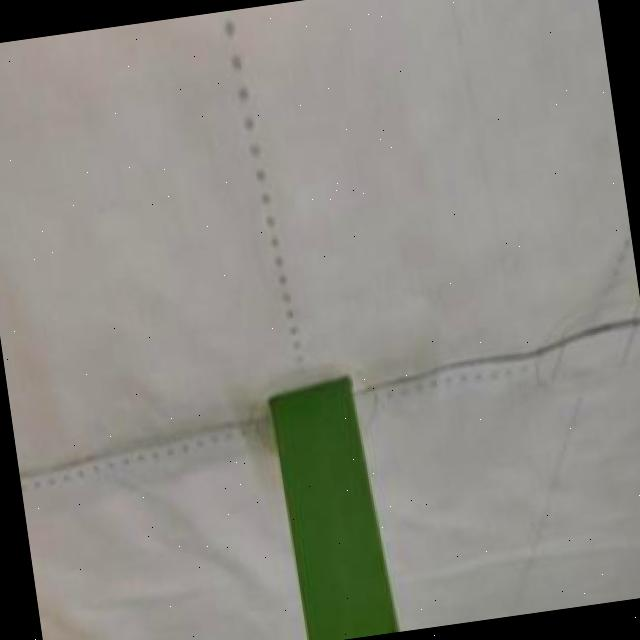greenbox: (263, 379, 398, 640)
